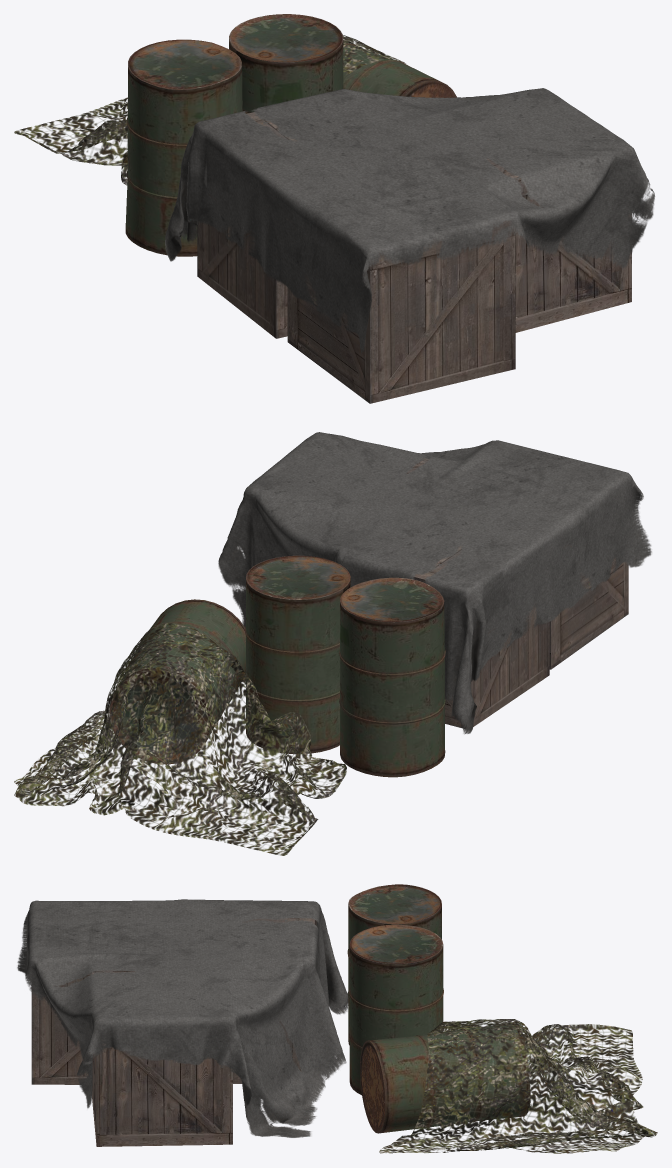
The model's file is barrels.glb.
The picture shows the model from 3 angles, top to bottom: view 1: azimuth 30°, elevation 25°; view 2: azimuth 150°, elevation 25°; view 3: azimuth 270°, elevation 25°; orthographic projection. The views are drawn at different scales.
Visible parts, largest first — view 1: Cloth, Crate, Barrel.002, Barrel, Crate.002, Crate.001, Cloth2, Barrel.001; view 2: Cloth, Cloth2, Barrel.002, Barrel, Barrel.001, Crate.001, Crate; view 3: Cloth, Cloth2, Crate.002, Barrel.001, Barrel, Barrel.002, Crate, Crate.001.
Part boxes in pixels (x1,y1,x2,y2): Cloth: (165, 88, 654, 353); Crate: (287, 219, 515, 403); Barrel.002: (125, 39, 242, 256); Barrel: (229, 14, 343, 113); Crate.002: (487, 158, 631, 332); Crate.001: (197, 112, 296, 338); Cloth2: (14, 35, 406, 185); Barrel.001: (343, 42, 456, 97); Cloth: (218, 432, 651, 734); Cloth2: (14, 623, 346, 855); Barrel.002: (339, 577, 445, 777); Barrel: (245, 555, 350, 754); Barrel.001: (109, 599, 245, 764); Crate.001: (413, 546, 549, 728); Crate: (549, 545, 628, 669); Cloth: (17, 899, 348, 1137); Cloth2: (379, 1019, 657, 1153); Crate.002: (91, 970, 232, 1146); Barrel.001: (360, 1023, 530, 1133); Barrel: (349, 924, 443, 1095); Barrel.002: (347, 884, 441, 1045); Crate: (31, 973, 90, 1084); Crate.001: (233, 918, 316, 1083).
Size of the model in its own units: 2.26 by 1.07 by 4.5.
Materials: 4 (4 with a texture image).
